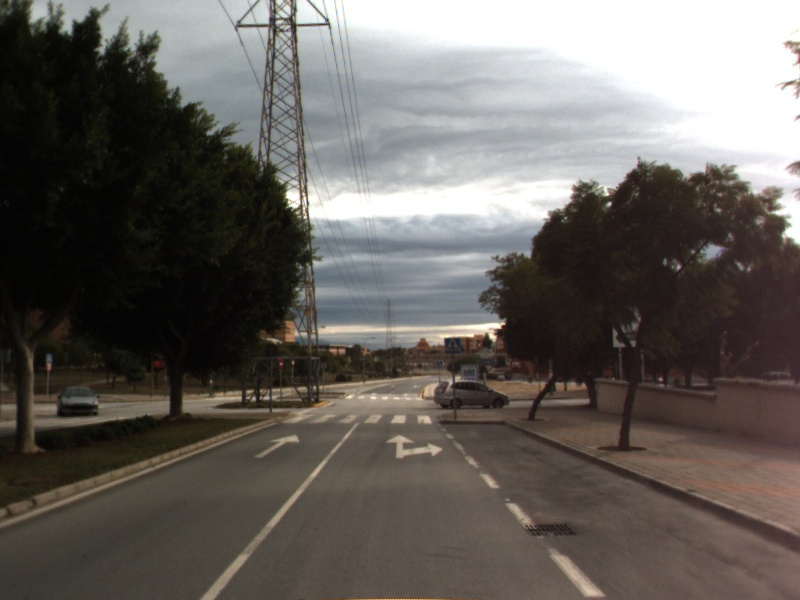STRAIGHT: (251, 432, 302, 460)
STRAIGHT_RIGHT: (383, 432, 445, 461)
